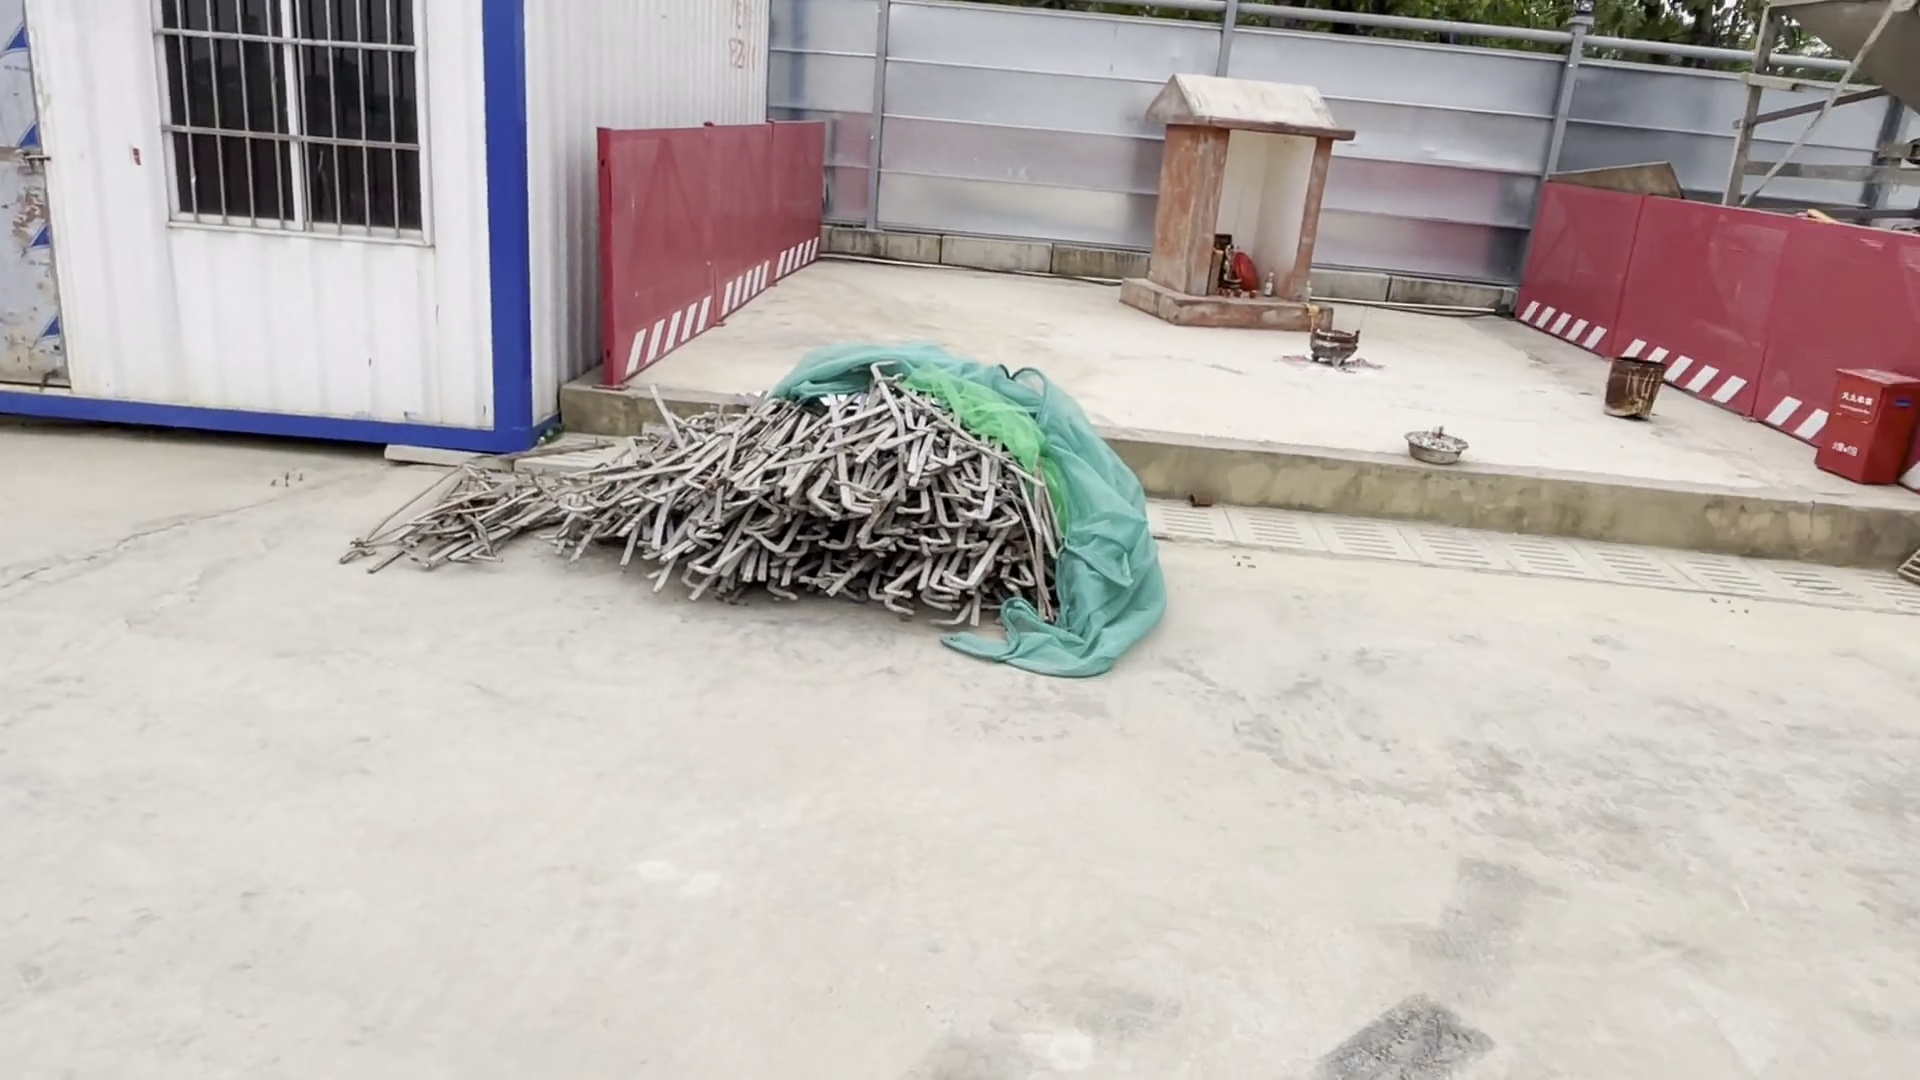fence: (1509, 171, 1920, 469), (591, 105, 849, 394)
